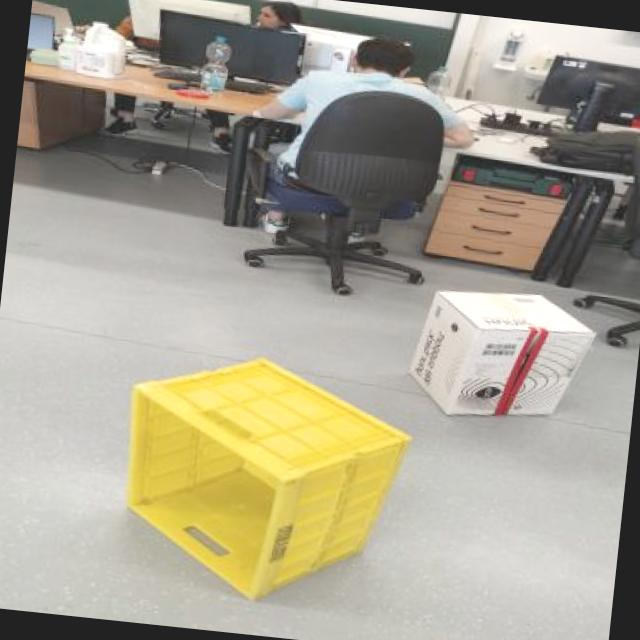box: (101, 339, 425, 632), (395, 270, 603, 436)
